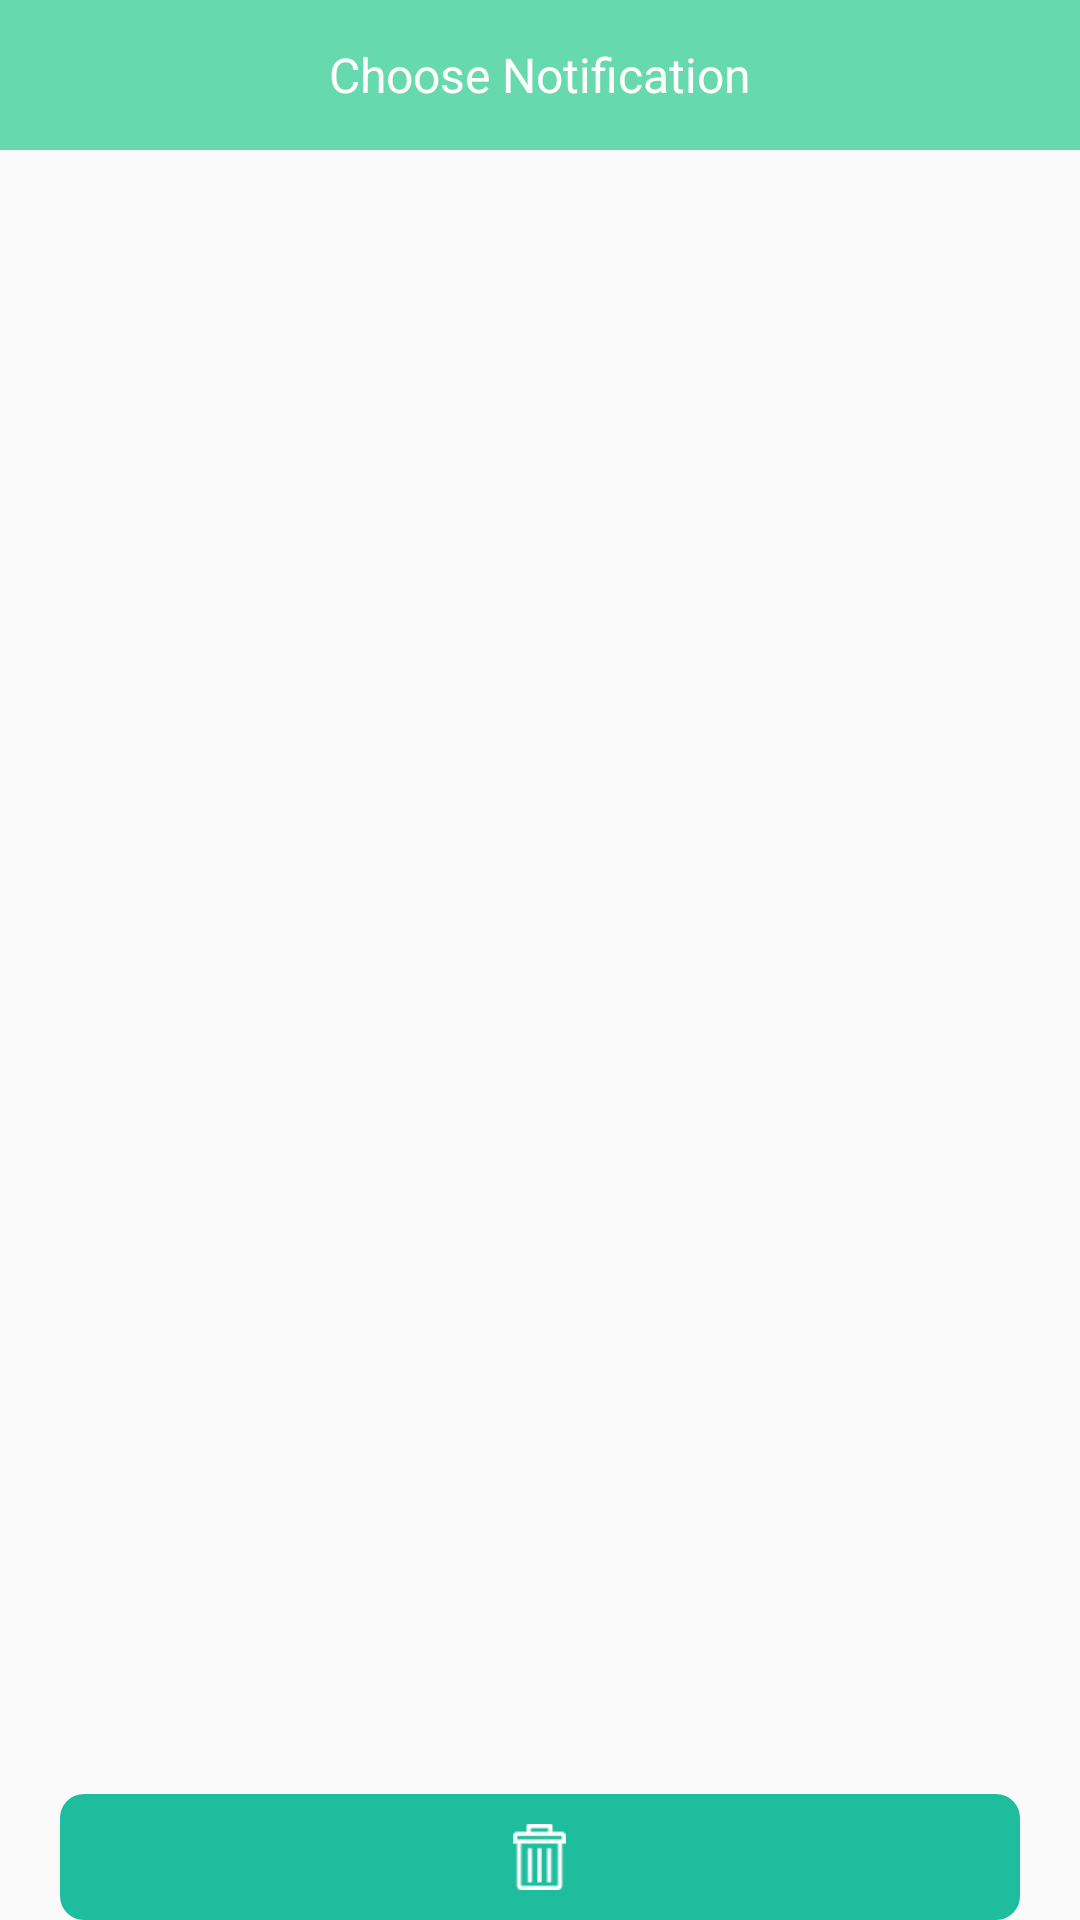

Icon click points for this 1080px x 1920px phone screenshot, format [x,y]:
notification delete: [539,1857]
